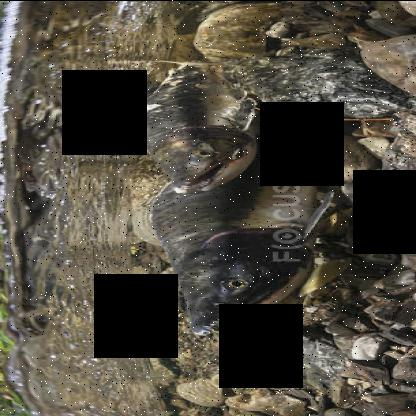fish: (153, 82, 309, 334), (124, 54, 252, 188)
